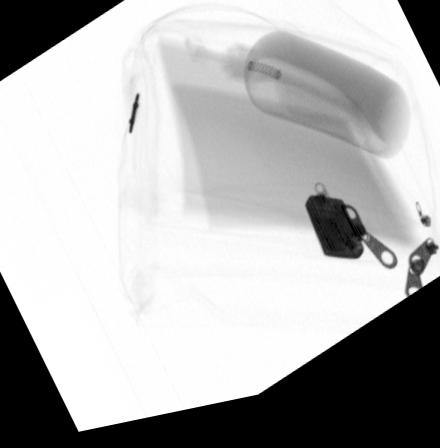Lighter: (303, 208, 363, 275)
